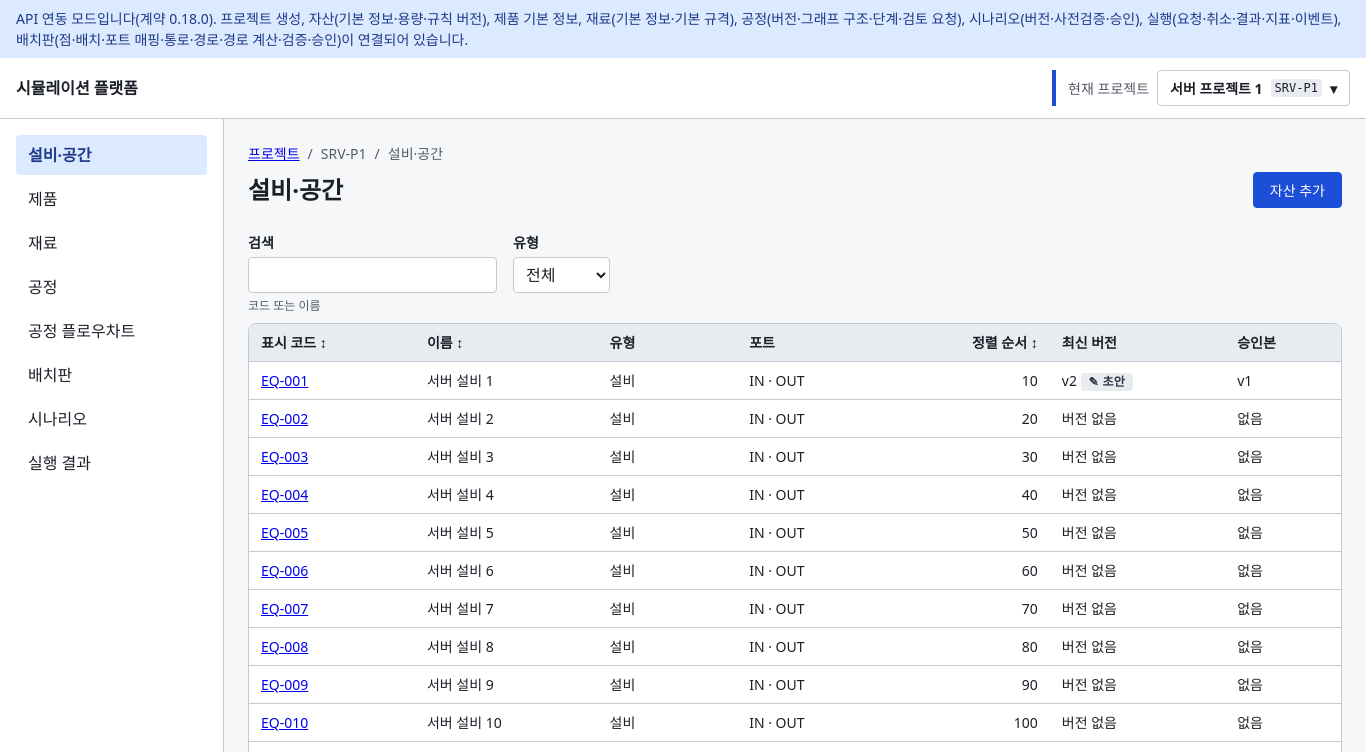
Scenario: API 모드: 앱 셸과 프로젝트 › 배너가 API 모드를 알리고 전환 메뉴는 /me의 프로젝트(코드)로 구성된다
Expected: the text "재료(기본 정보·기본 규격), 공정(버전·그래프 구조·단계·검토 요청), 시나리오(버전·사전검증·승인), 실행(요청·취소·결과·지표·이벤트), 배치판(점·배치·포트 매핑·통로·경로·경로 계산·검증·승인)이 연결되어 있습니다" is shown, [16,9,1341,49]
Click the button with aria-label "프로젝트 전환" at (1254, 88), box [1157,70,1350,106]
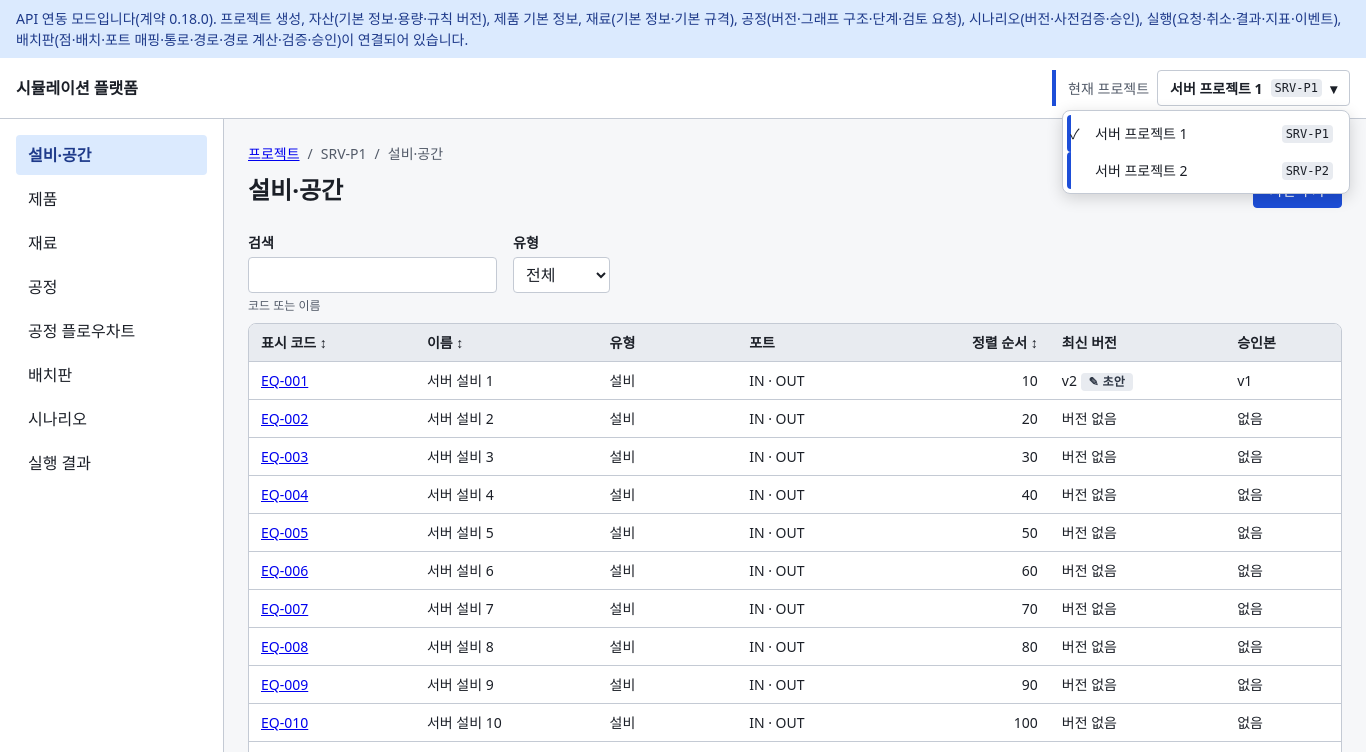
Expected: the number of menu items is 2, [1067,115,1345,152]; [1067,152,1345,189]
Expected: the text "서버 프로젝트 2" is shown, [1095,161,1188,180]
